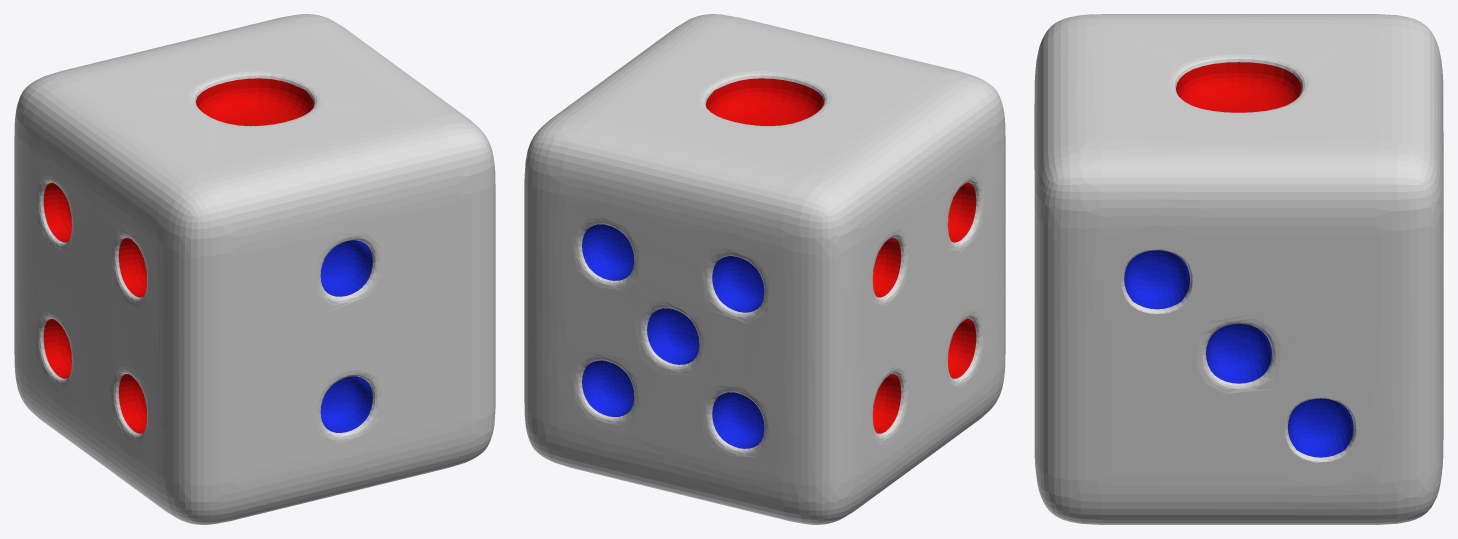
File: dice.glb
The picture shows the model from 3 angles, left to right: view 1: azimuth 30°, elevation 25°; view 2: azimuth 150°, elevation 25°; view 3: azimuth 270°, elevation 25°; orthographic projection. The views are drawn at different scales.
Visible parts, largest first — view 1: Cube; view 2: Cube; view 3: Cube.
Part boxes in pixels (left/top/right/bottom): Cube: left=14, top=14, right=495, bottom=524; Cube: left=524, top=14, right=1005, bottom=524; Cube: left=1034, top=14, right=1443, bottom=524.
Bounding box in the file's own units: 2 × 2 × 2.
